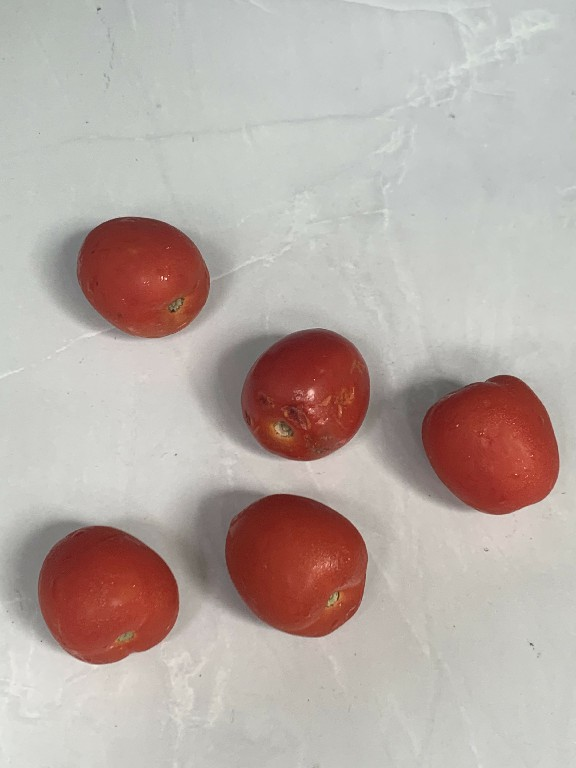NG: (241, 323, 372, 464)
OK: (407, 353, 565, 528), (29, 514, 192, 670), (218, 485, 369, 638), (69, 203, 219, 347)
